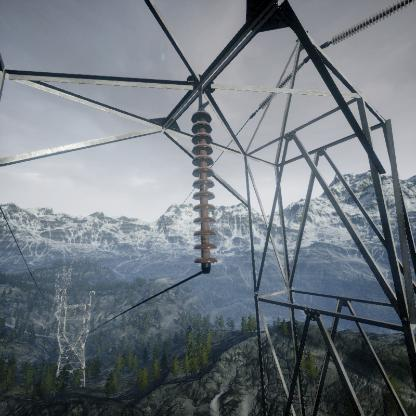insulator: (188, 108, 220, 270), (330, 0, 415, 46), (258, 61, 305, 111)
tower: (51, 287, 98, 394)
